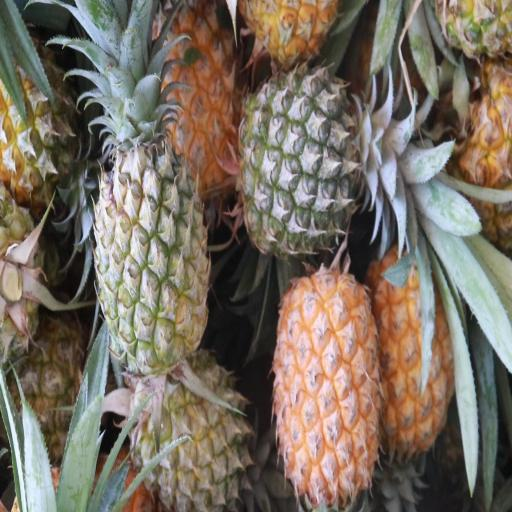Pineapple - v8 v1: (374, 236, 481, 492), (276, 278, 389, 508), (140, 0, 256, 200)
